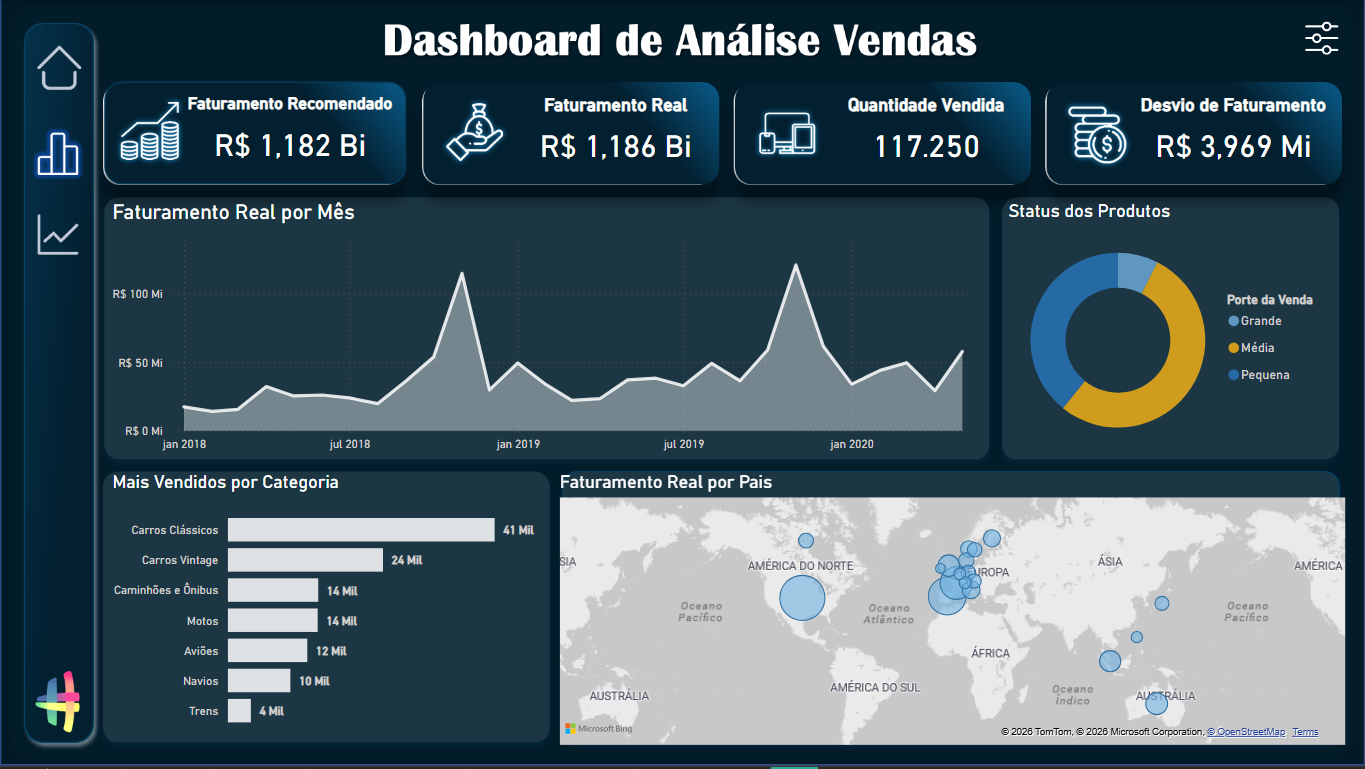

The dashboard page shown, as its layout file describes it:
{"tool":"powerbi","page":{"name":"Inicial","canvas":[1280,720],"ordinal":1},"visuals":[{"type":"card","title":"Faturamento Recomendado","fields":{"Values":["Medidas.Faturamento Total Previsto"]},"box":[168.9,89.5,207,73.8],"z":0},{"type":"card","title":"Faturamento Real","fields":{"Values":["Medidas.Faturamento Total Real"]},"box":[474.6,89.5,203.9,73.6],"z":1000},{"type":"card","title":"Quantidade Vendida","fields":{"Values":["Medidas.Qtde Vendida"]},"box":[770.8,89.5,194.7,73.8],"z":2000},{"type":"card","title":"Desvio de Faturamento","fields":{"Values":["Medidas.Desvio de Preço"]},"box":[1056.3,89.2,199.7,73.6],"z":3000},{"type":"stackedAreaChart","title":"Faturamento Real por Mês","fields":{"Category":["dCalendario.Inicio do Mês"],"Y":["Medidas.Faturamento Total Real"]},"box":[100.4,188.5,827.7,243.2],"z":4000},{"type":"image","title":"Botão de Filtro","box":[1219.2,21.2,39,31.2],"z":5000},{"type":"clusteredBarChart","title":"Mais Vendidos por Categoria","fields":{"Y":["Medidas.Qtde Vendida"],"Category":["dProduto.Categoria"]},"box":[100.4,442.8,413.8,252.1],"z":6000},{"type":"map","title":"Faturamento Real por Pais","fields":{"Category":["dLocalidade.Pais"],"Size":["Medidas.Faturamento Total Real"]},"box":[519.8,442.8,746.2,261],"z":7000},{"type":"actionButton","title":"Botão Capa","box":[22.3,37.2,68.3,60.8],"z":8000},{"type":"donutChart","title":"Status dos Produtos","fields":{"Y":["Medidas.Qtde Vendida"],"Series":["fVendas.Porte da Venda1"]},"box":[940.3,188.5,317.9,243.2],"z":9000},{"type":"actionButton","box":[22.6,191.3,67.8,57.1],"z":11000},{"type":"actionButton","title":"Botão Capa","box":[21.1,187.5,68.3,60.8],"z":12000}]}

Visuals, with their boxes in screenshot pixels (x1, y1, x2, y2), scaled from the page's 1280x720 canvas onto the 1365x769 screenshot:
"Faturamento Recomendado" card: [180, 96, 401, 174]
"Faturamento Real" card: [506, 96, 724, 174]
"Quantidade Vendida" card: [822, 96, 1030, 174]
"Desvio de Faturamento" card: [1126, 95, 1339, 174]
"Faturamento Real por Mês" stackedAreaChart: [107, 201, 990, 461]
"Botão de Filtro" image: [1300, 23, 1342, 56]
"Mais Vendidos por Categoria" clusteredBarChart: [107, 473, 548, 742]
"Faturamento Real por Pais" map: [554, 473, 1350, 752]
"Botão Capa" actionButton: [24, 40, 97, 105]
"Status dos Produtos" donutChart: [1003, 201, 1342, 461]
actionButton: [24, 204, 96, 265]
"Botão Capa" actionButton: [23, 200, 95, 265]
